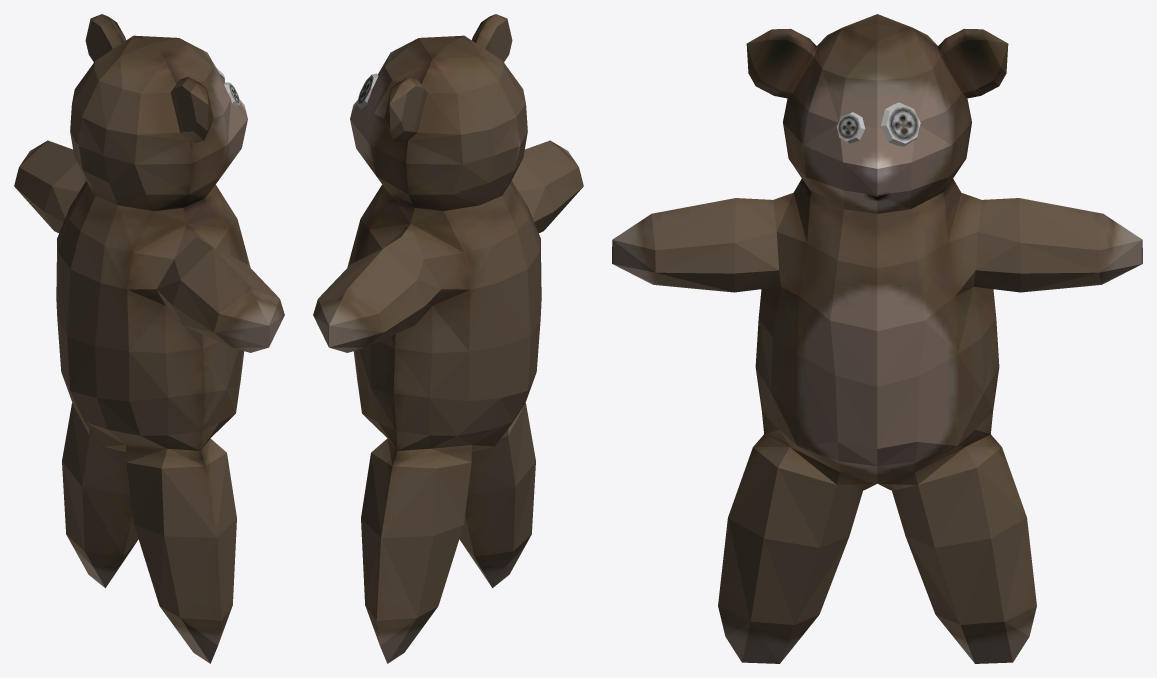
The model's file is Teddybear.obj.
3 views of the same model, side by side, from view 1: azimuth 30°, elevation 25°; view 2: azimuth 150°, elevation 25°; view 3: azimuth 270°, elevation 25° (orthographic). The views are drawn at different scales.
Parts seen in each view (by area): view 1: default_default1; view 2: default_default1; view 3: default_default1.
Part boxes in pixels (box(x1,y1,x2,y2)): default_default1: box(14, 14, 284, 663); default_default1: box(313, 14, 583, 663); default_default1: box(612, 14, 1142, 663).
Size of the model in its own units: 4.52 by 14.02 by 10.54.
Materials: 2 (1 with a texture image).
